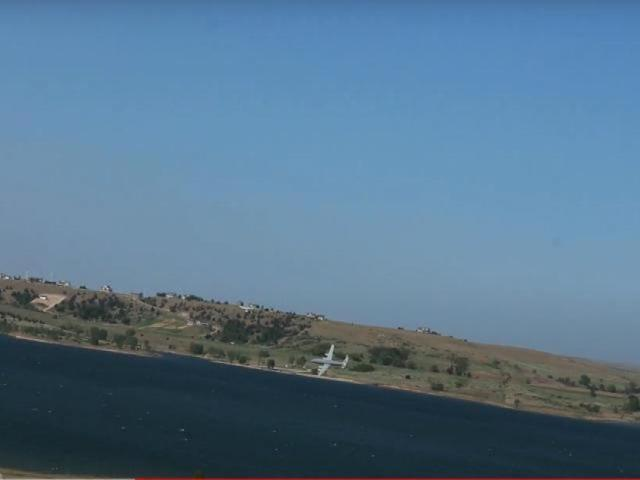iha: (310, 343, 350, 375)
